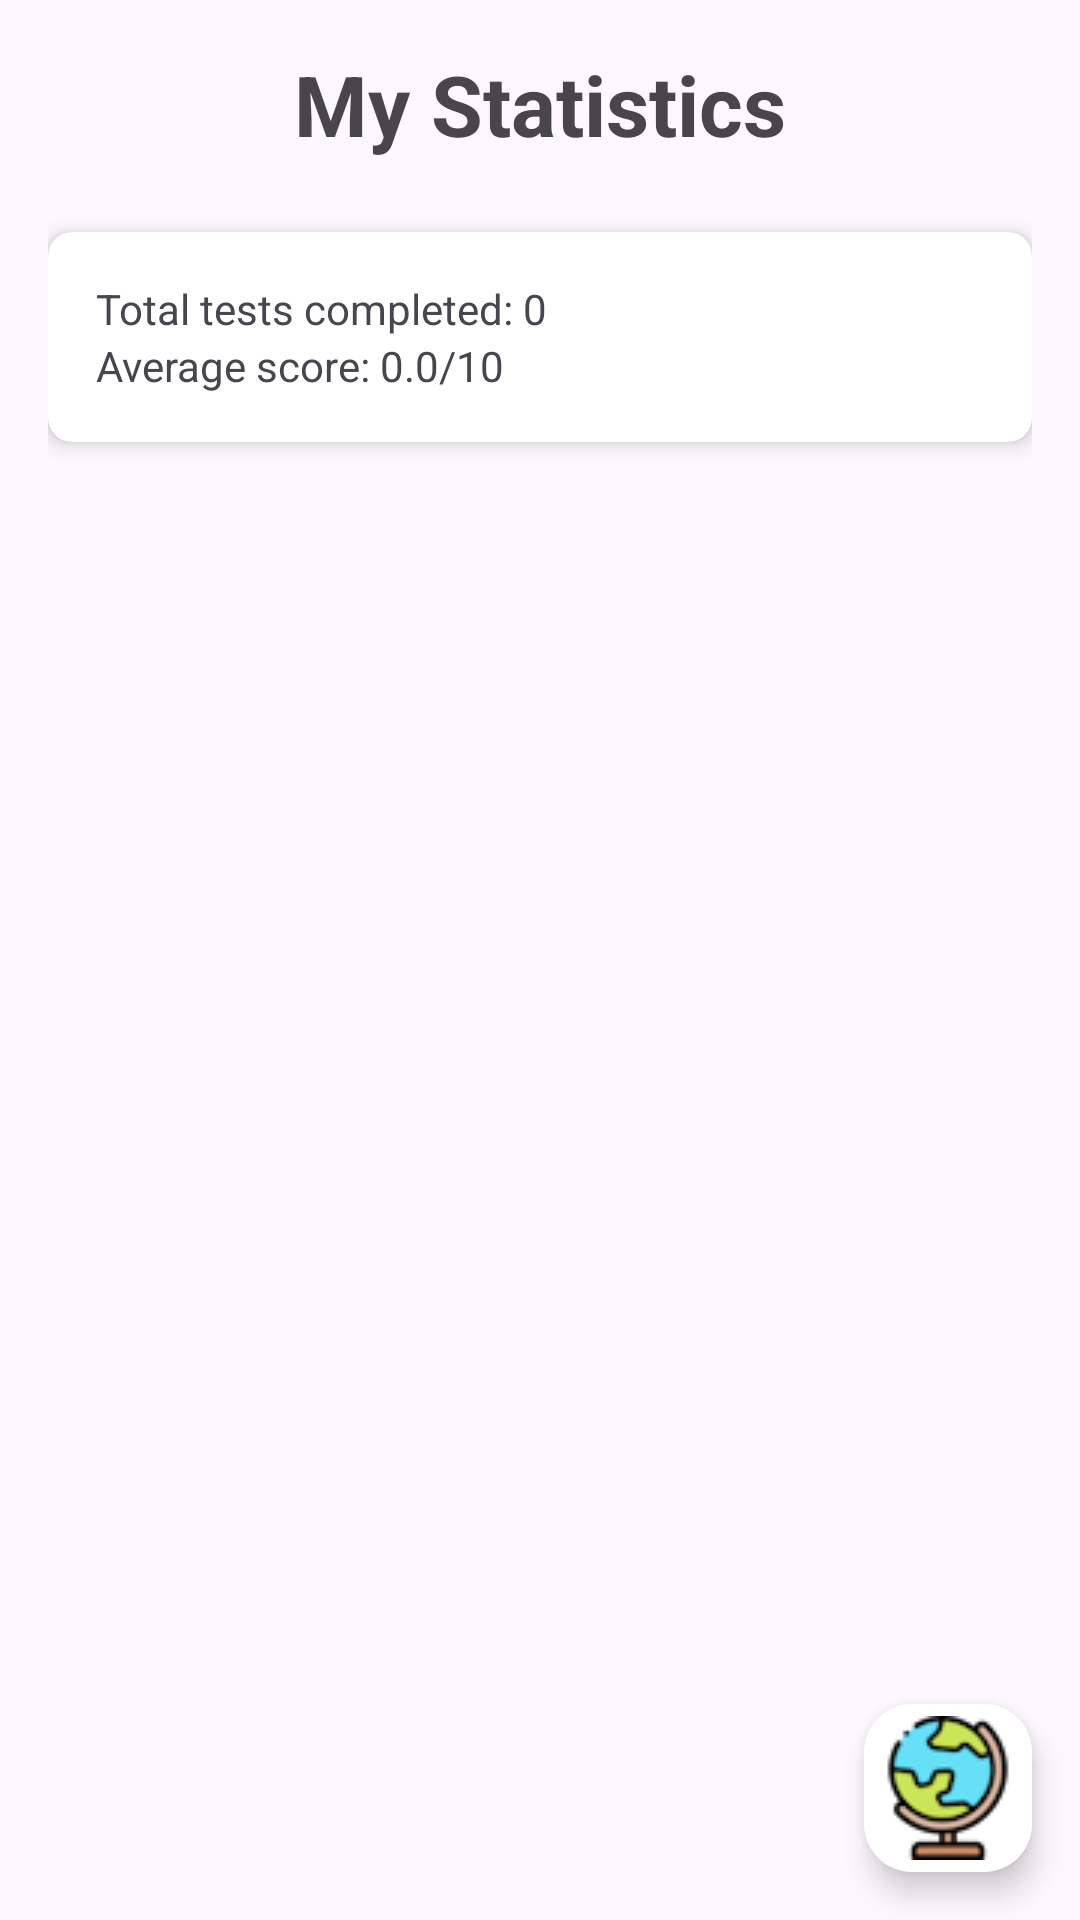

Named icons in this screenshot (1080×1920) and their bounding boxes, (x1, y1, x2, y2):
globus: (887, 1716, 1009, 1860)
